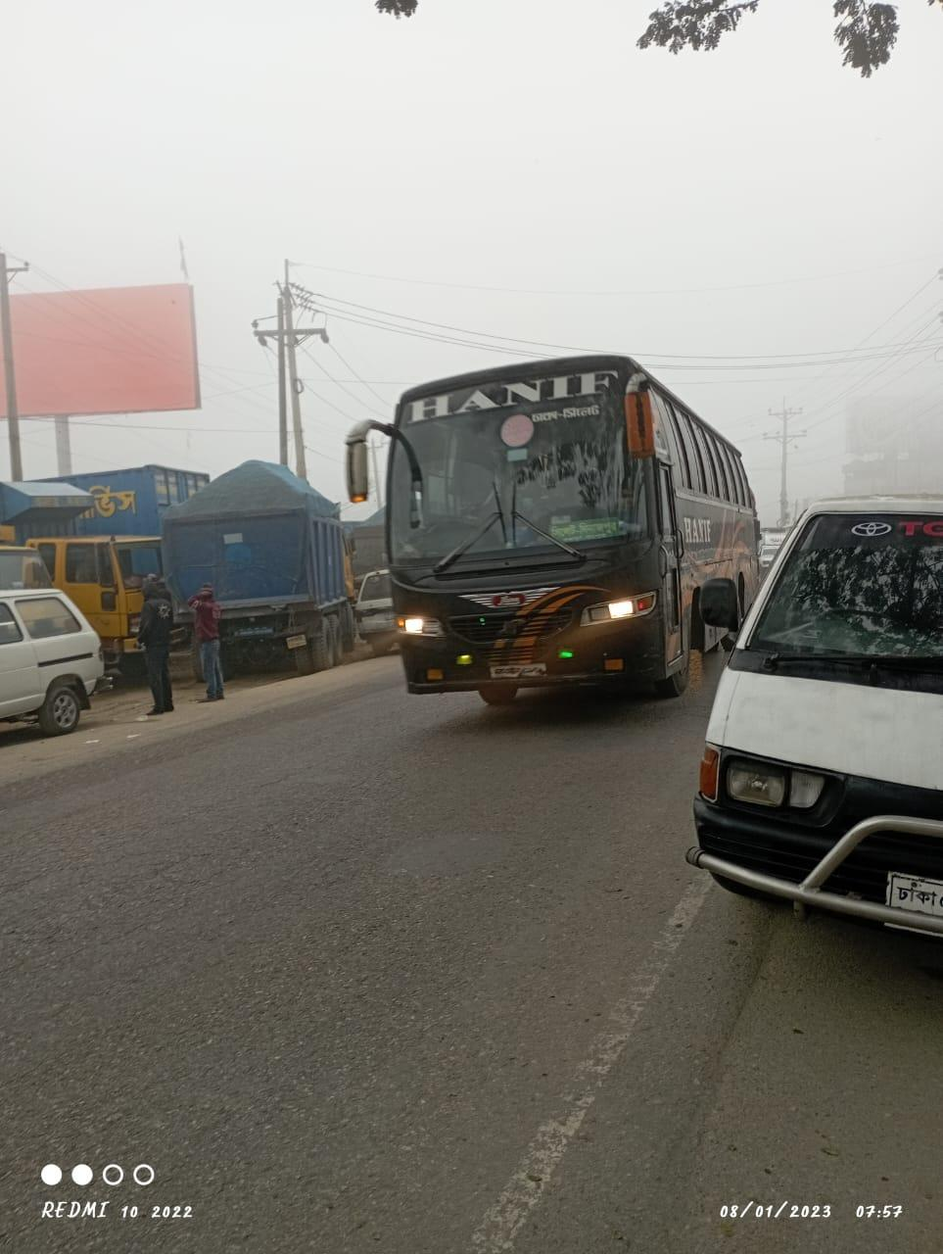Bus: (321, 345, 753, 693)
Car: (690, 489, 943, 953), (2, 577, 111, 720)
Truck: (155, 456, 356, 671)
